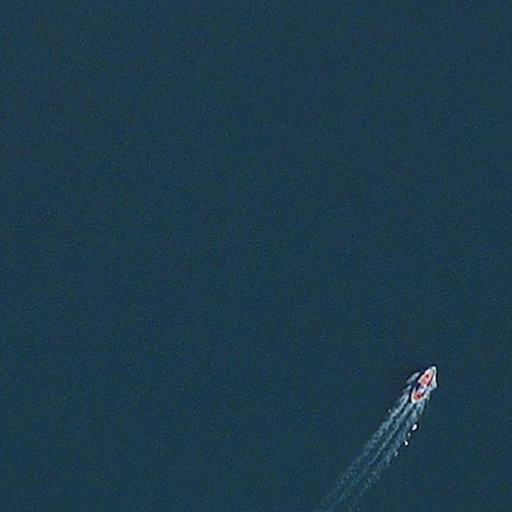ship: (405, 363, 439, 411)
